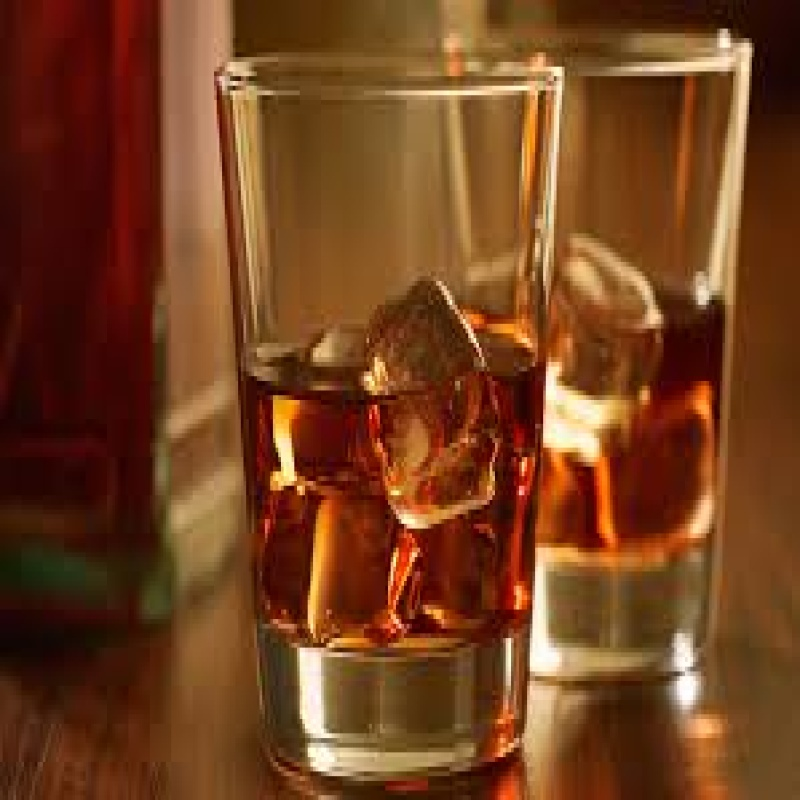whiskey: (223, 54, 530, 787), (534, 38, 756, 682)
